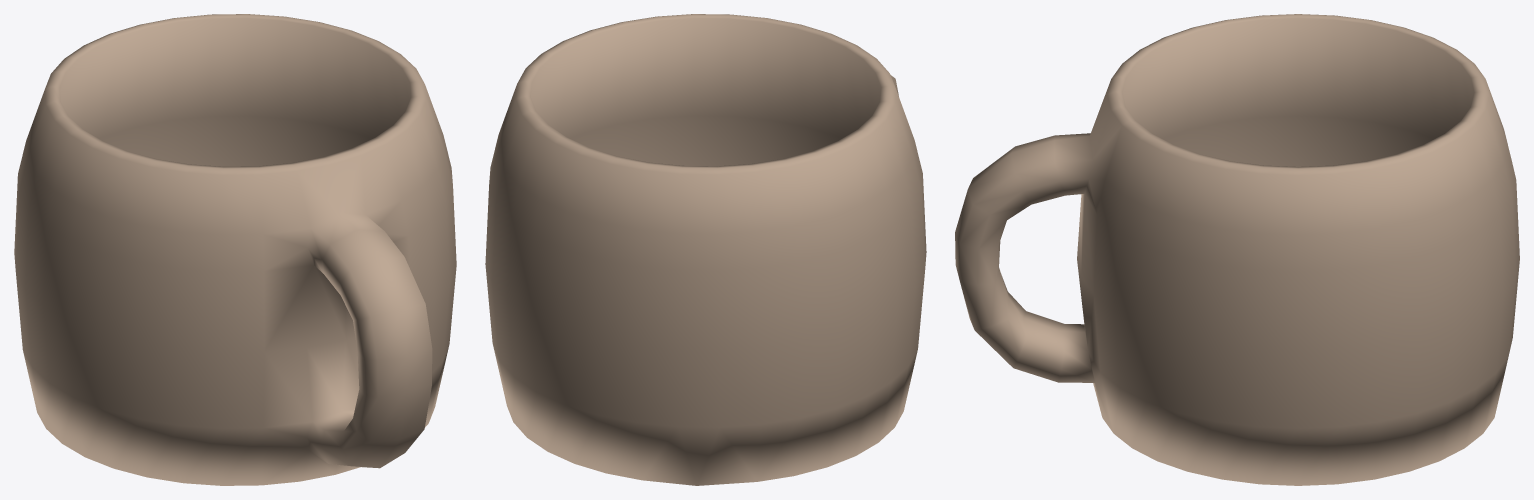
The picture shows the model from 3 angles, left to right: view 1: azimuth 30°, elevation 25°; view 2: azimuth 150°, elevation 25°; view 3: azimuth 270°, elevation 25°; orthographic projection.
Parts seen in each view (by area): view 1: Tea Cup; view 2: Tea Cup; view 3: Tea Cup.
Part boxes in pixels (bbox=[...]): Tea Cup: bbox=[14, 14, 456, 485]; Tea Cup: bbox=[485, 14, 926, 485]; Tea Cup: bbox=[955, 14, 1519, 485].
Bounding box in the file's own units: 2.2 × 1.7 × 2.81.
